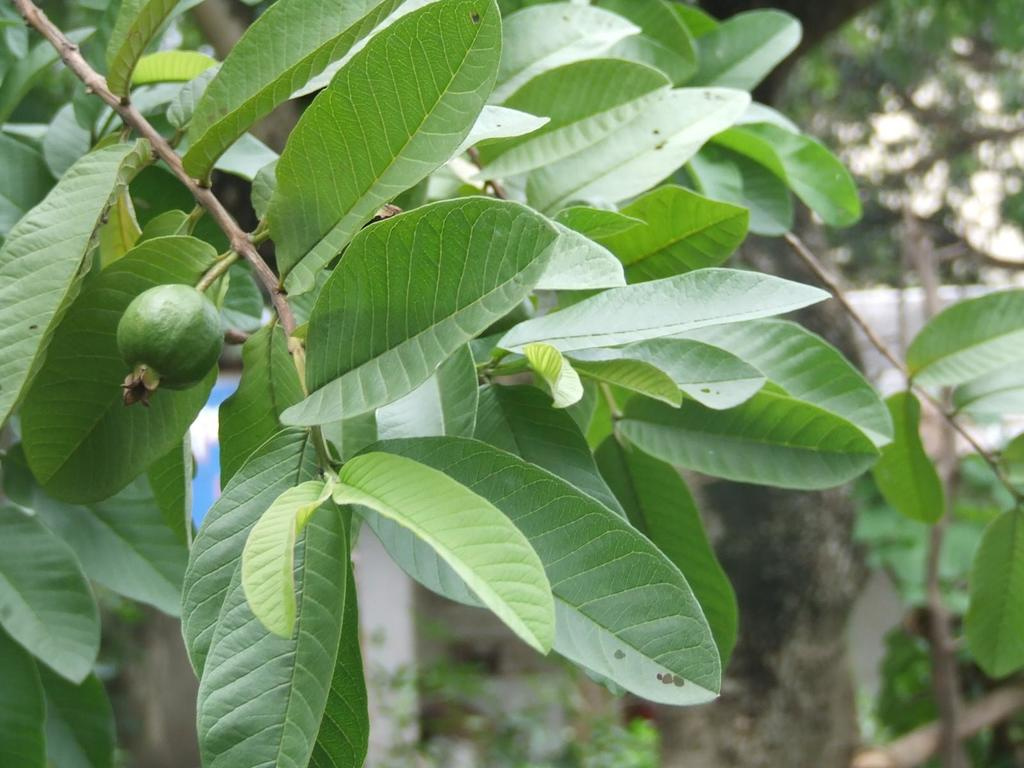Tree: (0, 0, 1023, 766)
